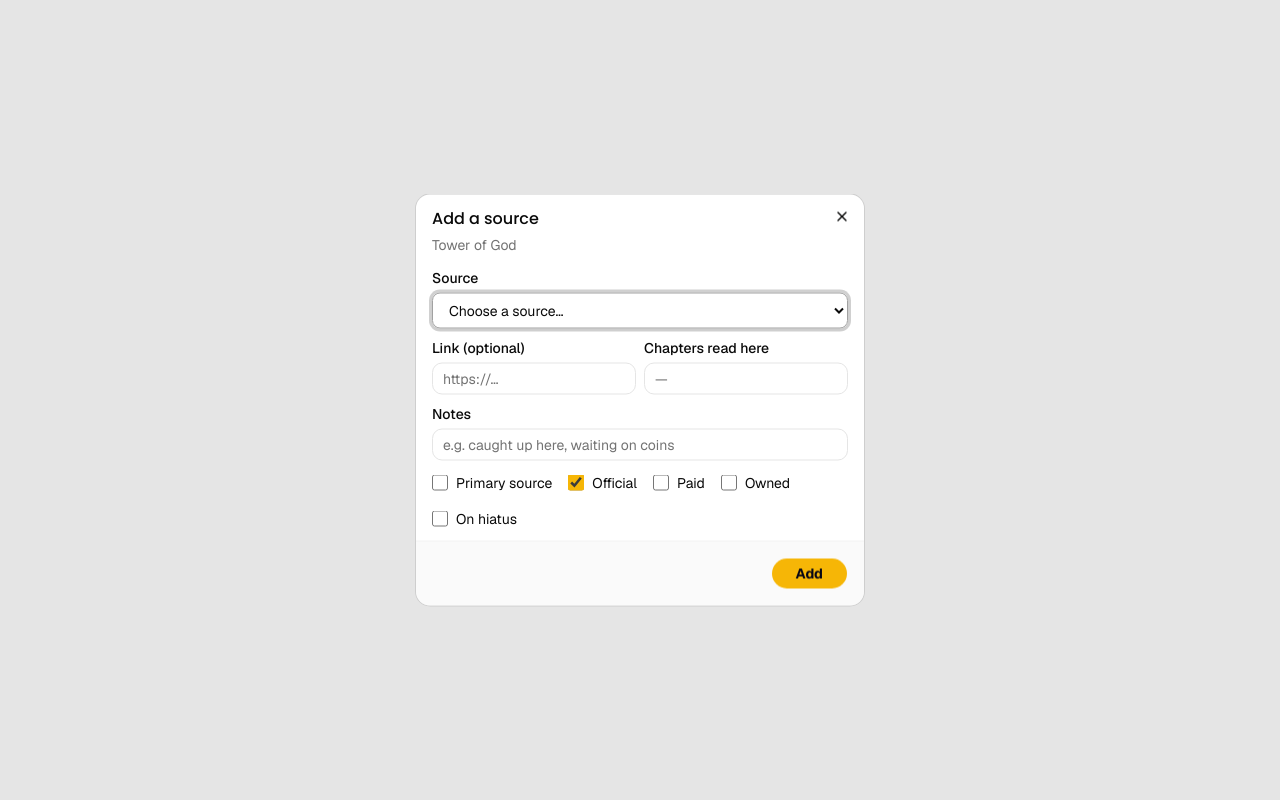
the chapters-owned preview › says what it understood
Click the checkbox labelled "Owned": click(729, 482) [721,474,737,490]
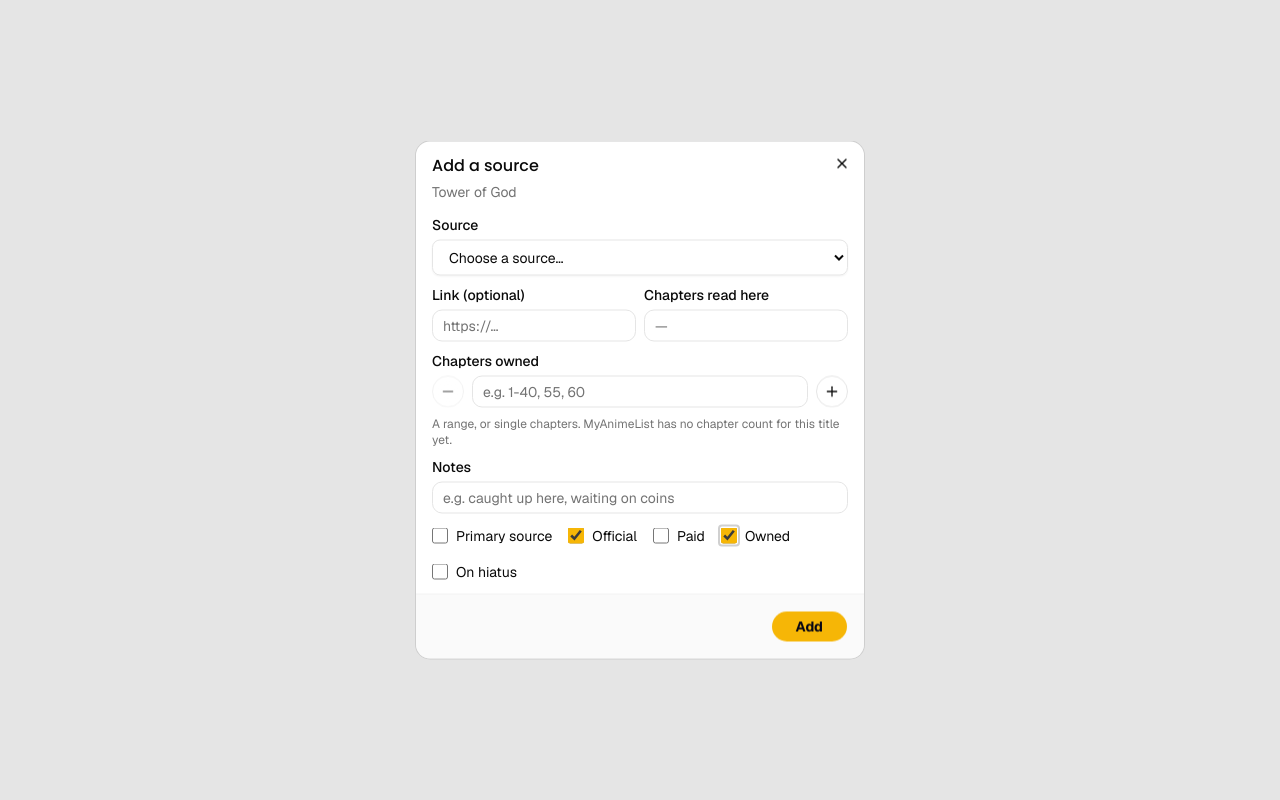
In the field labelled "Chapters owned": (640, 392) [472,376,808,408], type "1-40, 55, 60"
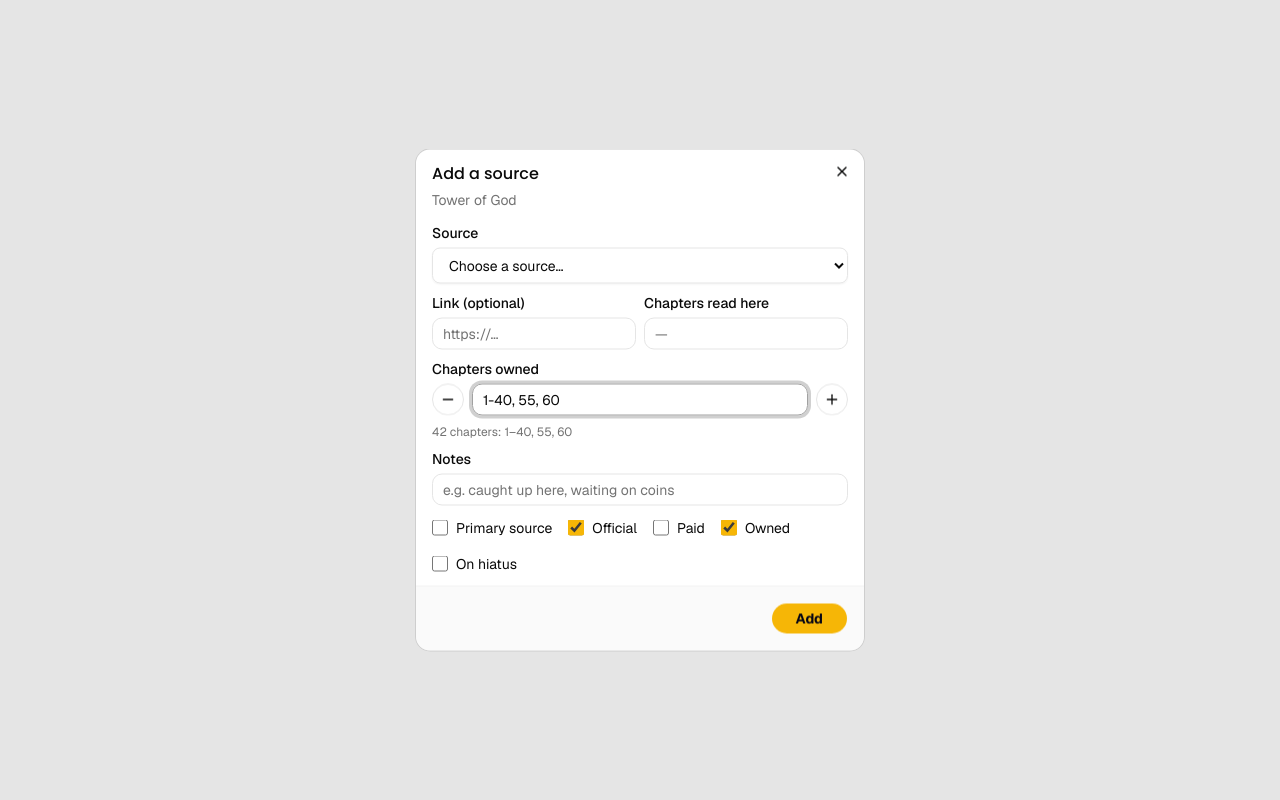
Expected: the text "42 chapters: 1–40, 55, 60" is shown, [432,424,572,440]
